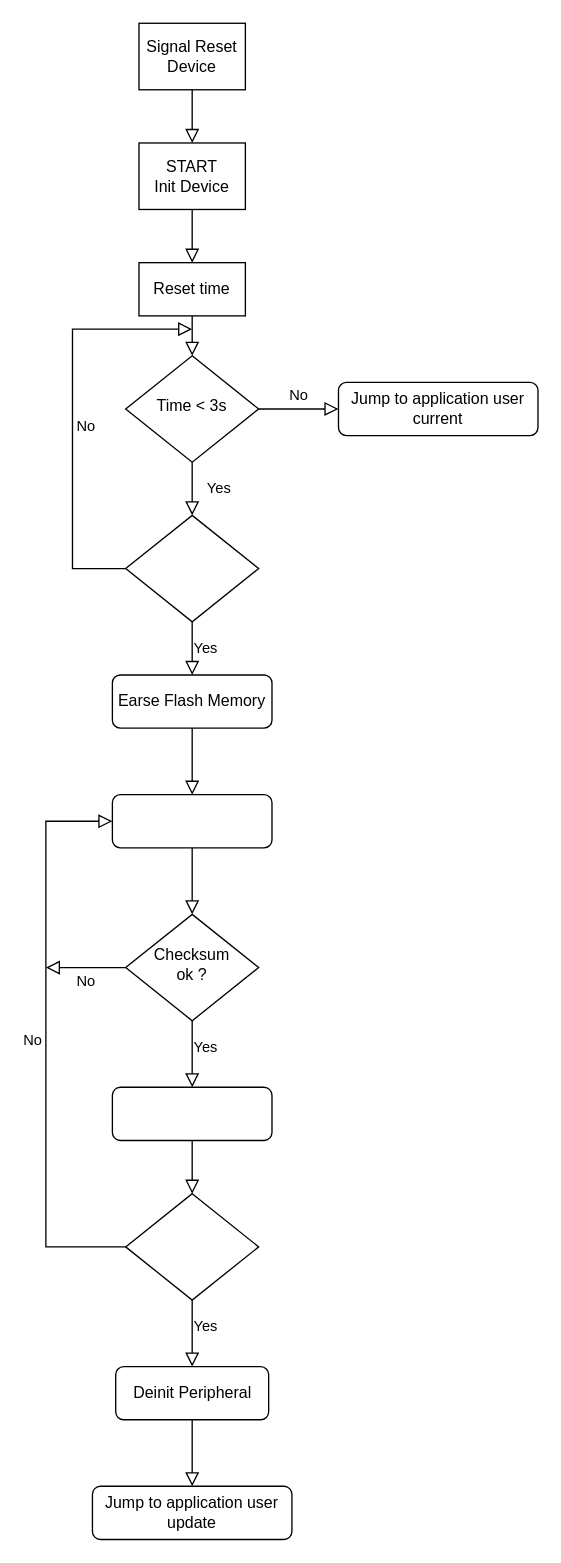
The diagram is 561 pixels wide and 1563 high, and some of its shapes have lost their labels. Here are the shapes that lost their labels. From the top down, the centre of each, then its label:
At (191,568): "Valid Flag Update ?".
At (191,820): "Receive a hex file".
At (191,1113): "Write Flash Memory".
At (191,1246): "Cplt Update ?".
